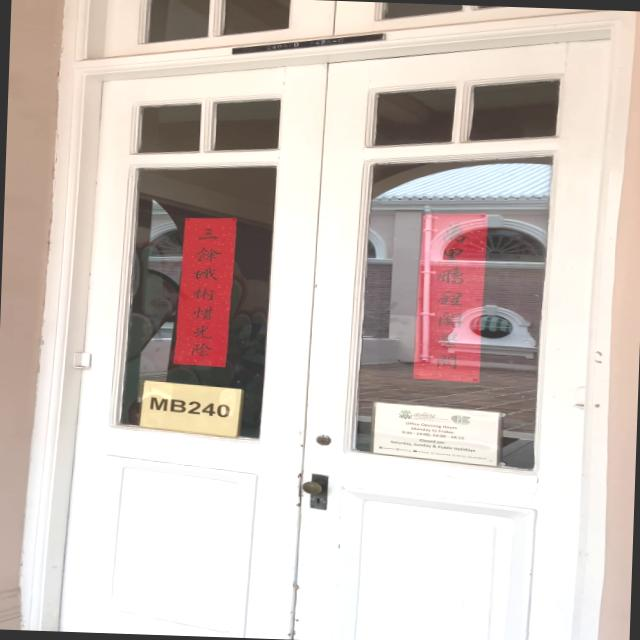room240: (137, 377, 240, 438)
